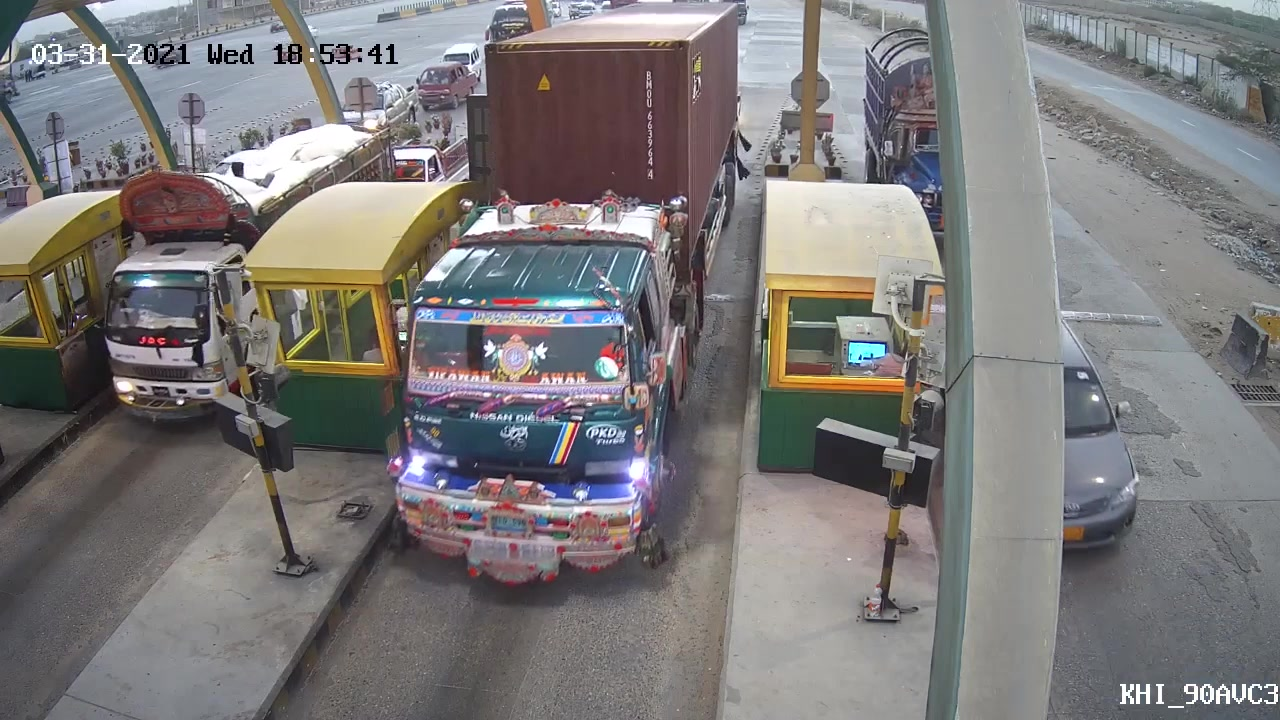F6: (381, 1, 748, 593)
